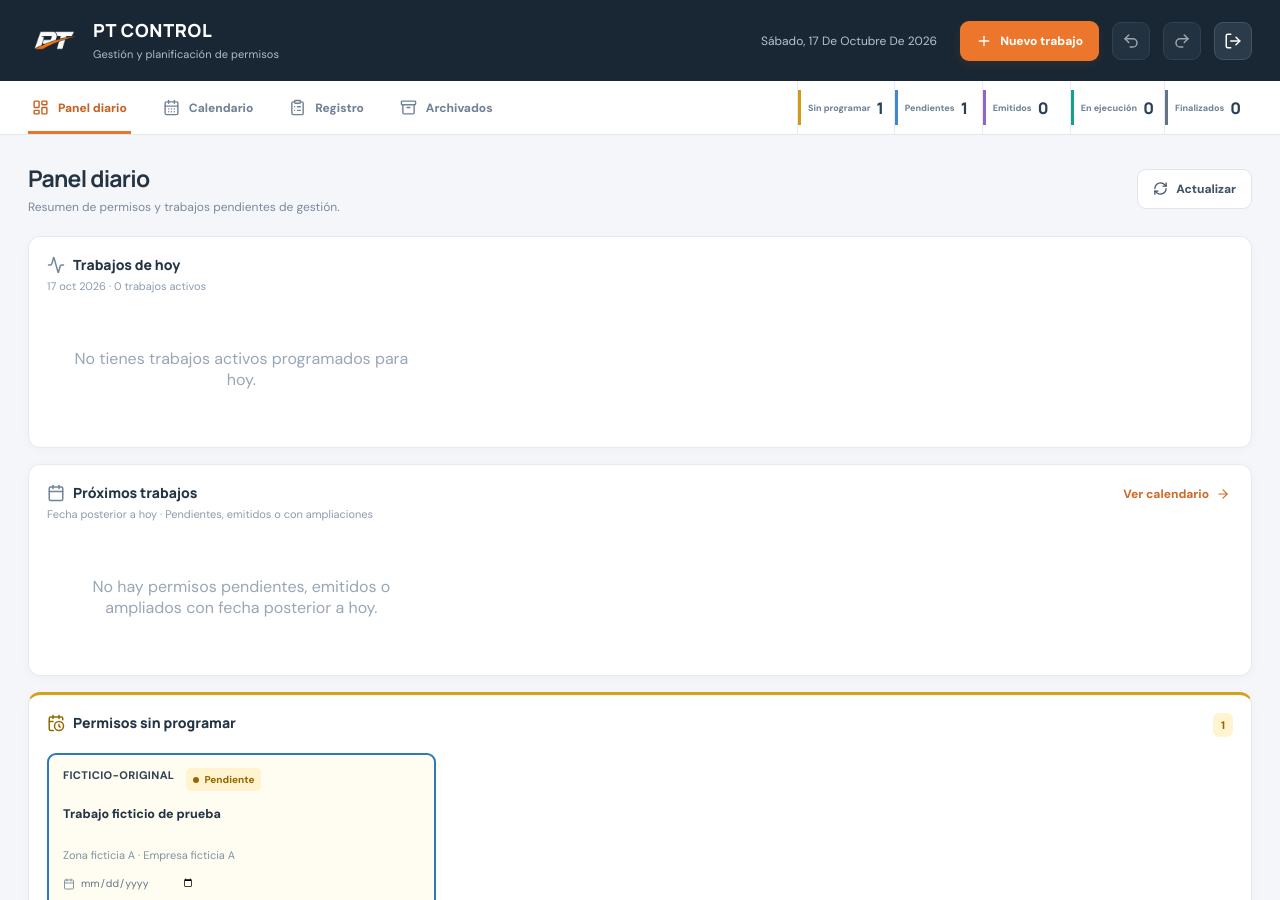
flujos completos con backend simulado solo en pruebas › cancelar ampliación conserva el borrador y cerrar diálogos anidados libera el scroll
Expected: the heading "Panel diario" is shown, [28,162,150,194]
Click the button with aria-label "Abrir Trabajo ficticio de prueba". click: click(119, 775)
box: [63,768,420,864]
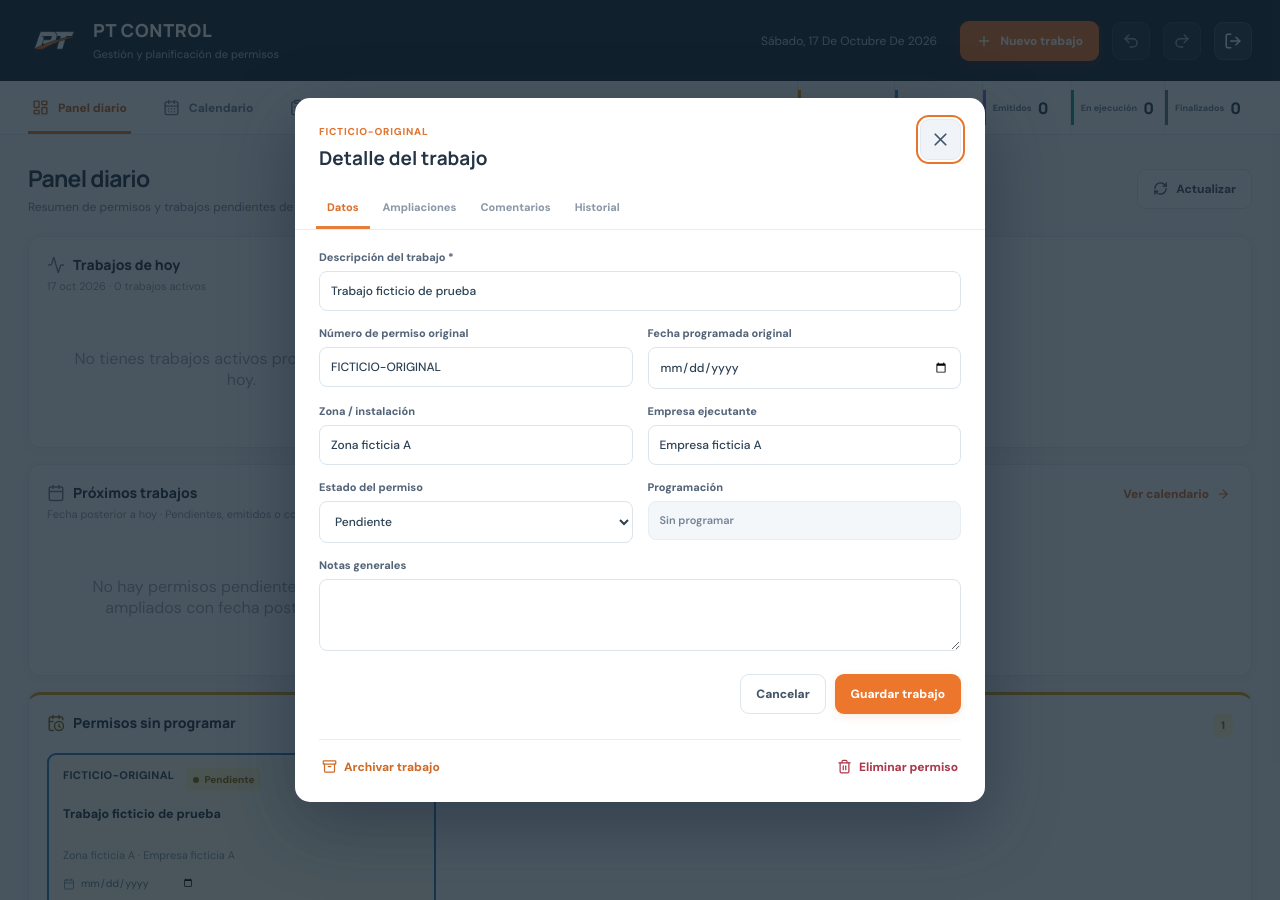
Replace the text in the field labelled "Descripción del trabajo *" with "Borrador sin guardar". click: (640, 291)
box: [319,271,961,311]
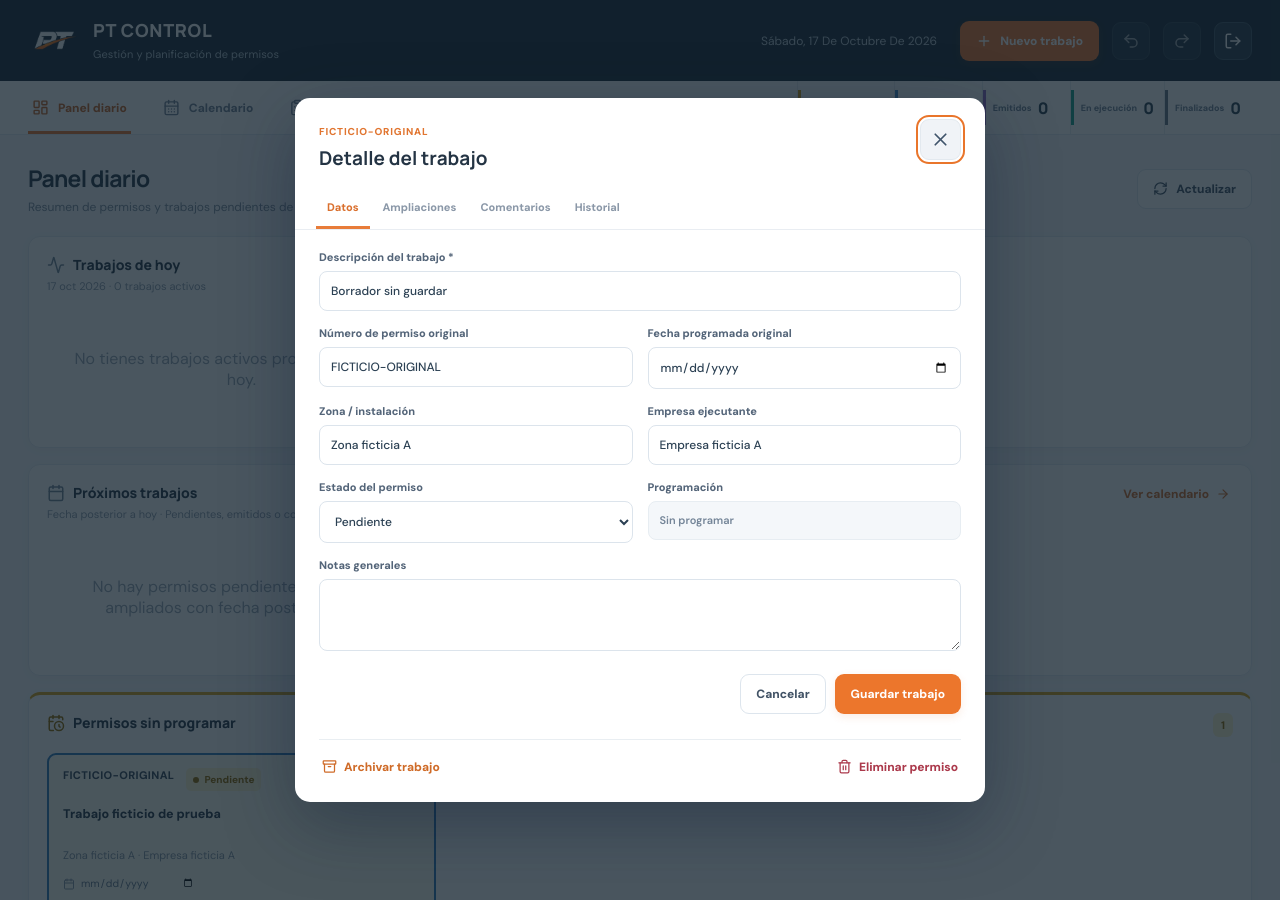
Select "Ampliado…" in the dropdown labelled "Estado del permiso". click: (476, 522)
box: [319,501,632,543]
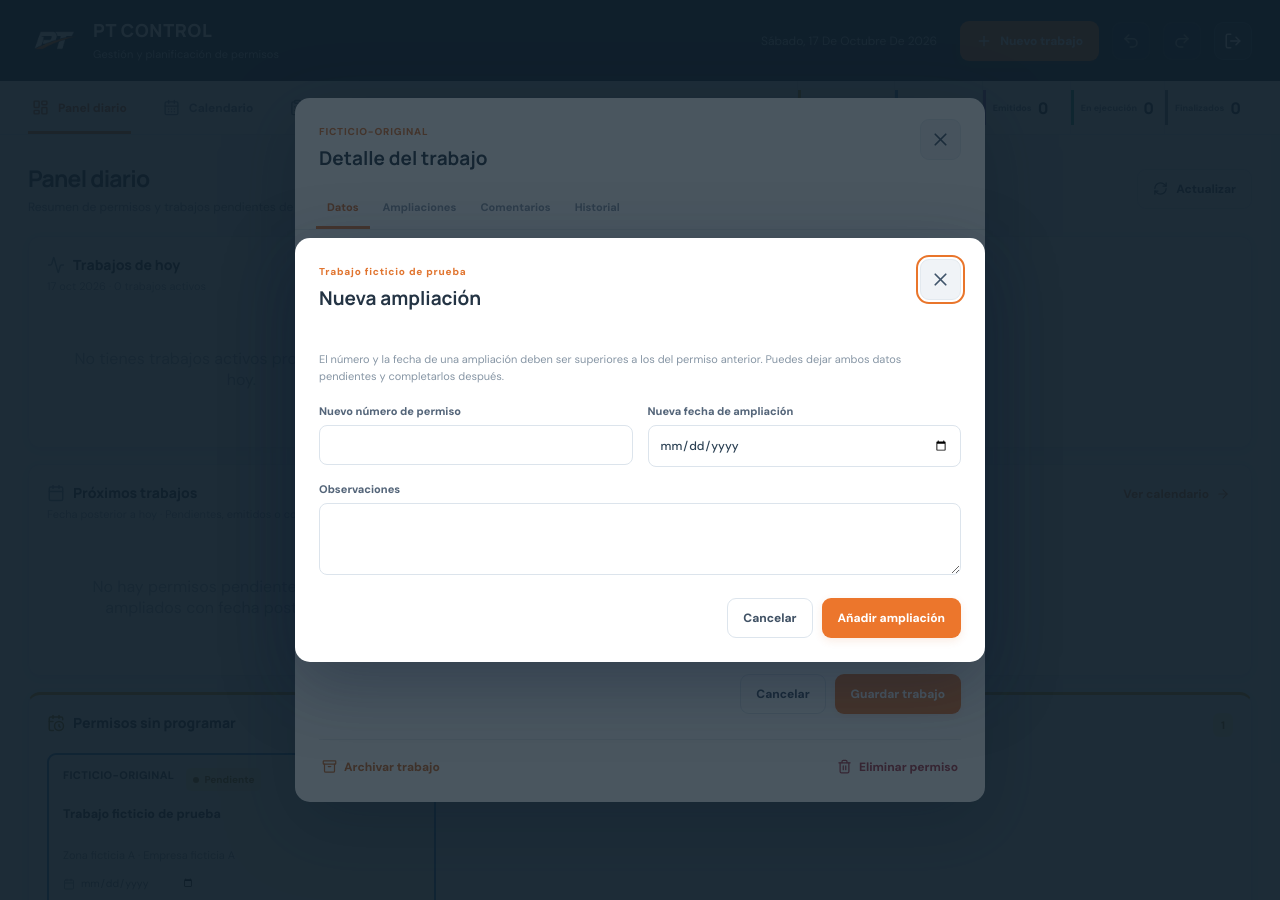
Click the button "Cancelar". click: click(770, 618)
box: [727,598,813,638]
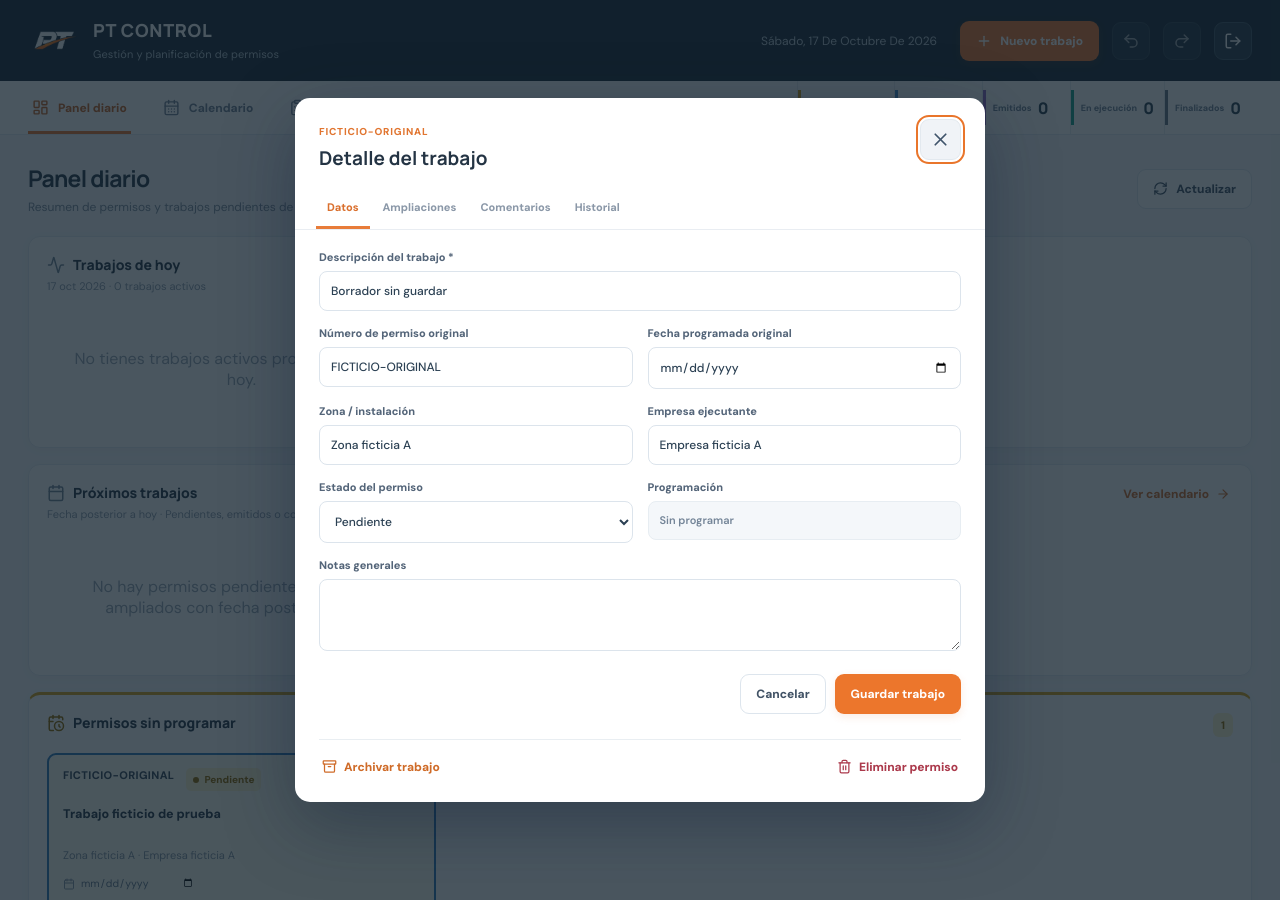
Click the button "Eliminar permiso". click: click(897, 767)
box: [834,756,961,778]
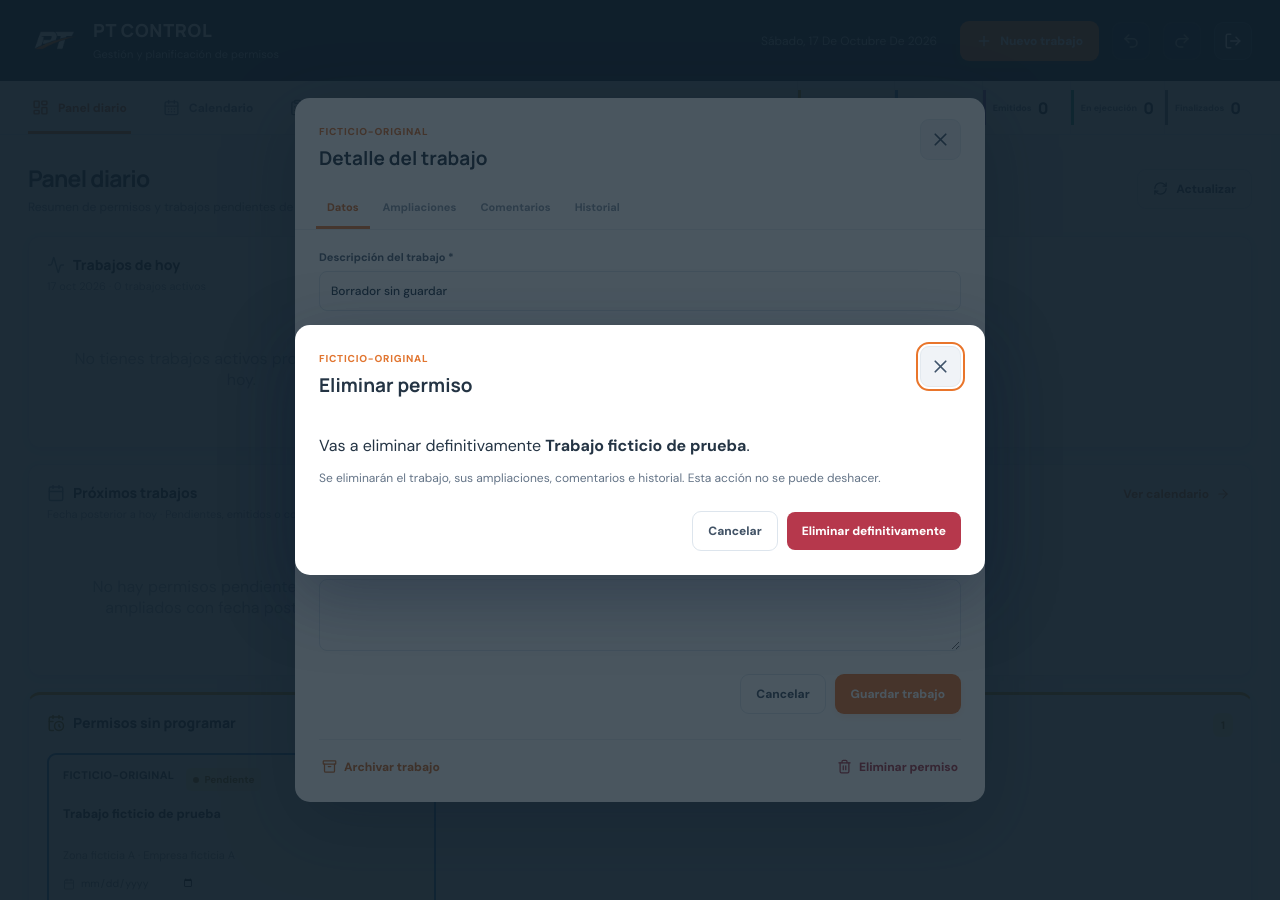
Click the button "Eliminar definitivamente". click: click(874, 531)
box: [787,512,961,550]
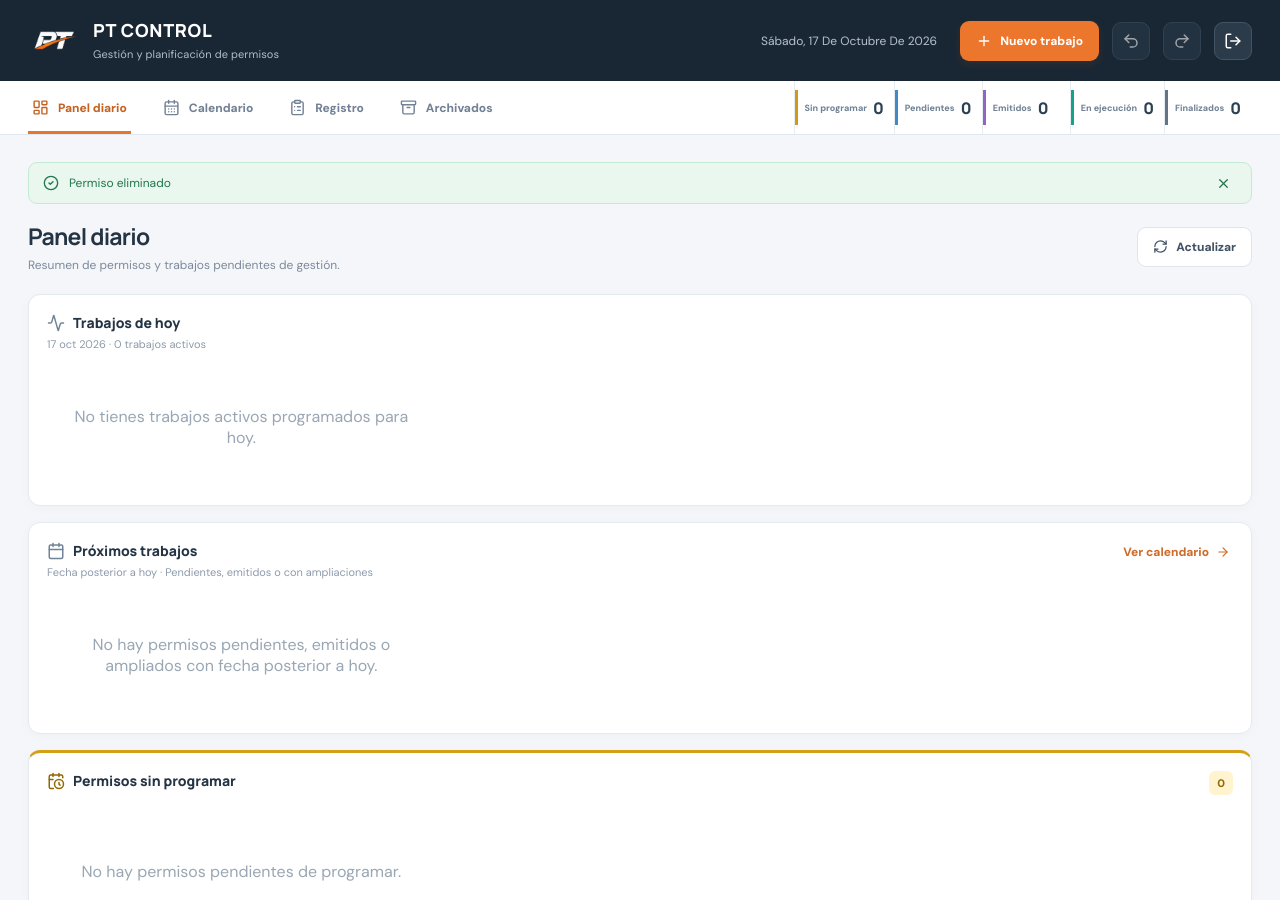
Expected: the dialog is gone
